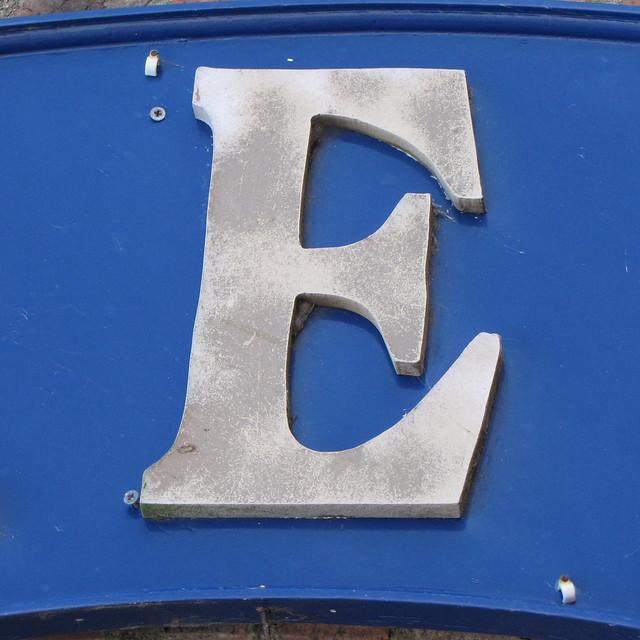E: (95, 50, 557, 539)
